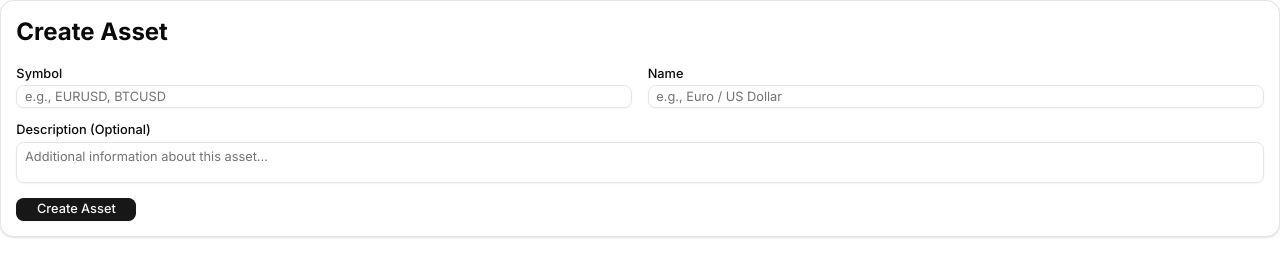
AssetForm › shows validation error for invalid symbol format
The width and height of the screenshot is (1280, 279).
In the field labelled "Symbol": coordinates (324, 97) [16,86,632,108], type "eur/usd"
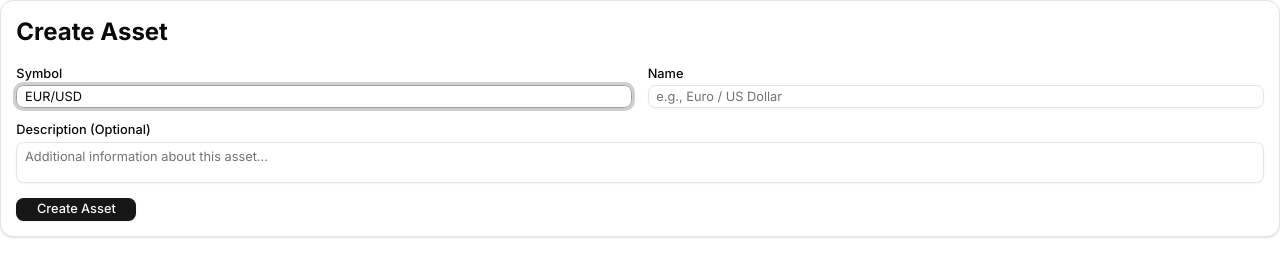
Click the button "Create Asset": coordinates (76, 210) [16,198,136,221]
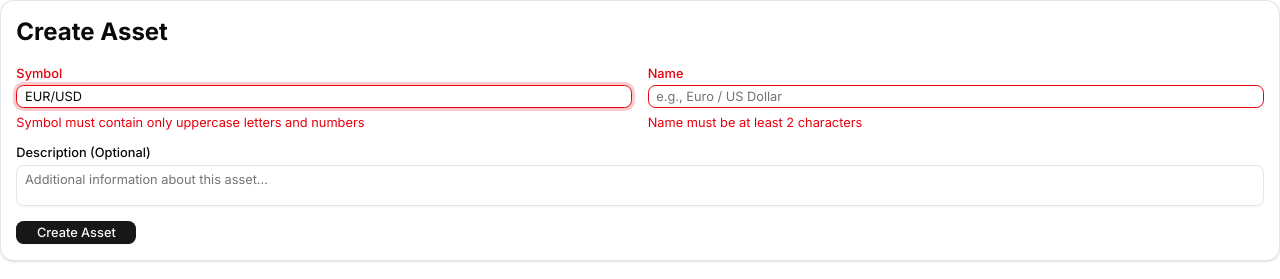
Expected: the text "Symbol must contain only uppercase letters and numbers" is shown, [16,115,364,130]
